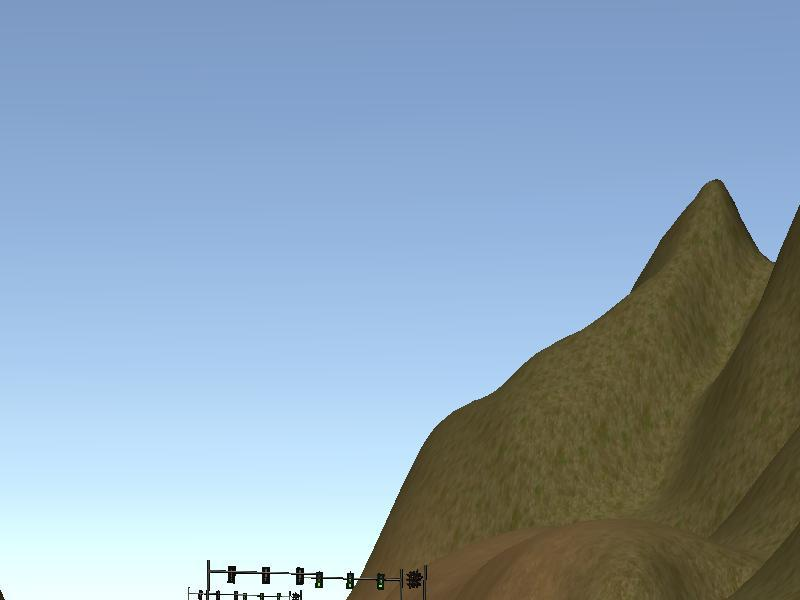Green: (345, 571, 355, 590), (375, 573, 384, 592), (314, 571, 323, 589)
